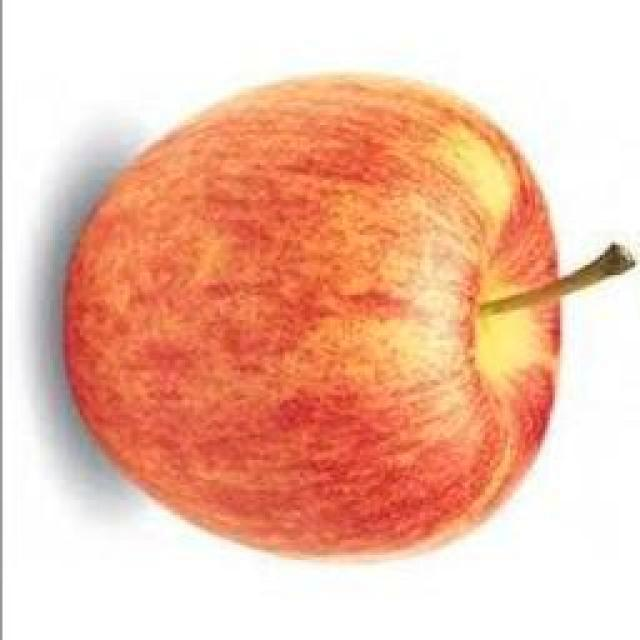Apple: (65, 76, 560, 552)
